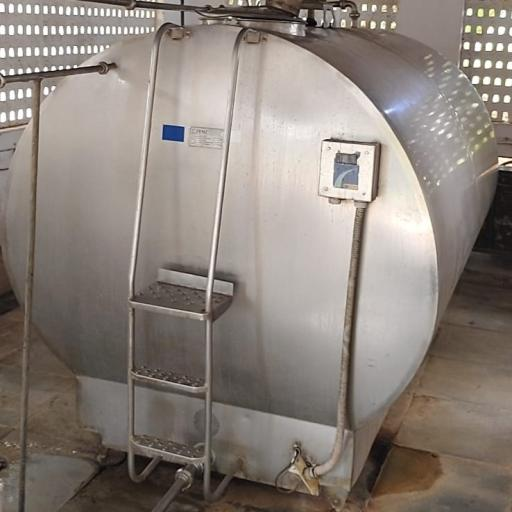silo: (0, 6, 500, 484)
